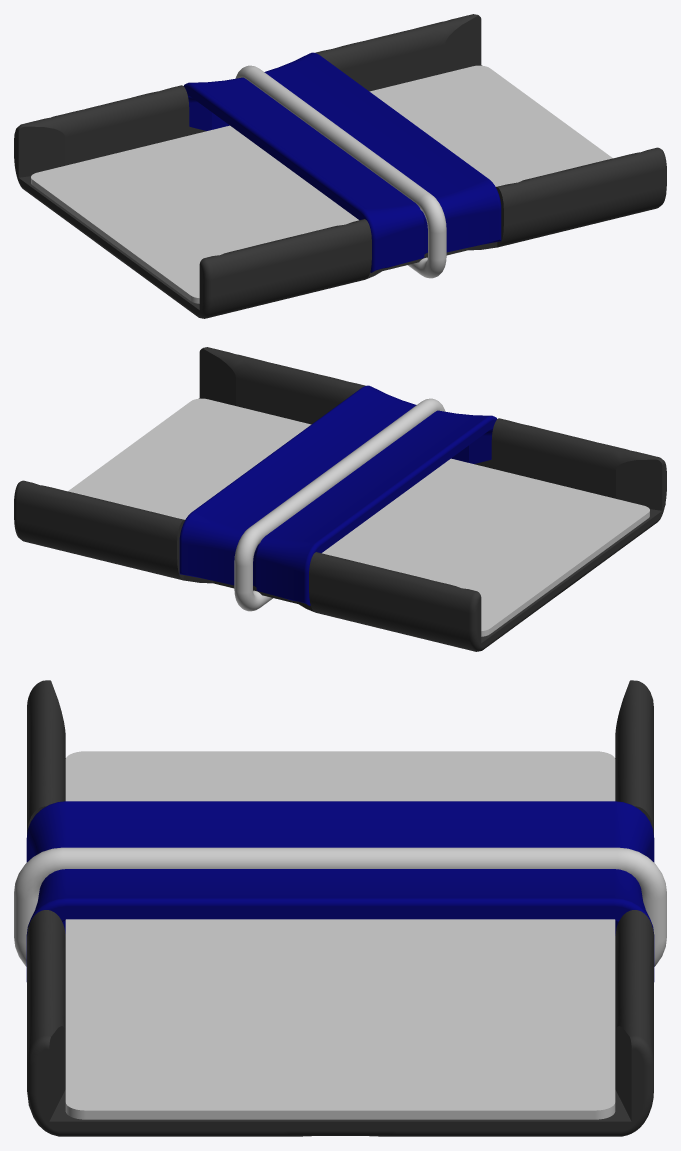
Rendered from Travel wallet V2.gltf.
3 views of the same model, one above another, from view 1: azimuth 30°, elevation 25°; view 2: azimuth 150°, elevation 25°; view 3: azimuth 270°, elevation 25° (orthographic). The views are drawn at different scales.
Parts seen in each view (by area): view 1: Credit card, BottomPart, TopPart - single spring, Spring ø3 x ø0.5 - L=128; view 2: Credit card, BottomPart, TopPart - single spring, Spring ø3 x ø0.5 - L=128; view 3: Credit card, TopPart - single spring, BottomPart, Spring ø3 x ø0.5 - L=128.
Part boxes in pixels (x1,y1,x2,y2): Credit card: [31, 65, 612, 303]; BottomPart: [14, 14, 666, 318]; TopPart - single spring: [183, 52, 501, 272]; Spring ø3 x ø0.5 - L=128: [235, 65, 446, 278]; Credit card: [68, 398, 649, 636]; BottomPart: [14, 347, 666, 651]; TopPart - single spring: [179, 385, 496, 605]; Spring ø3 x ø0.5 - L=128: [234, 398, 445, 611]; Credit card: [65, 751, 615, 1119]; TopPart - single spring: [26, 801, 654, 981]; BottomPart: [27, 680, 653, 1136]; Spring ø3 x ø0.5 - L=128: [14, 847, 666, 966].
Size of the model in its own units: 0.0856 by 0.016 by 0.065.
